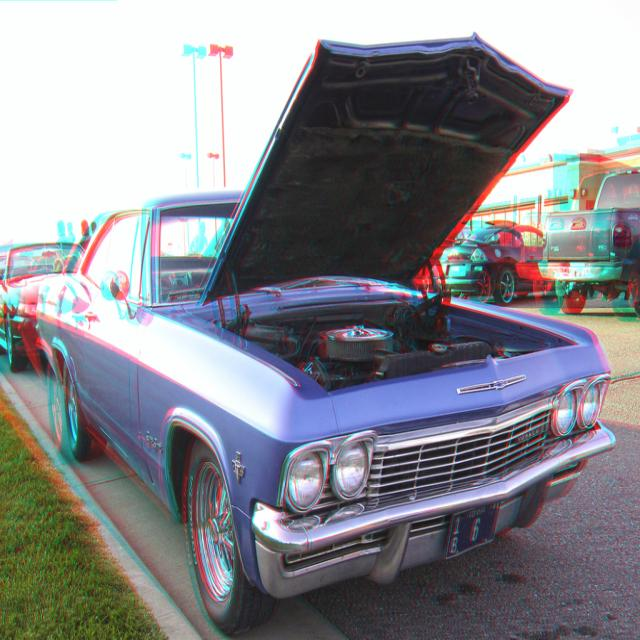car: (31, 27, 614, 638)
